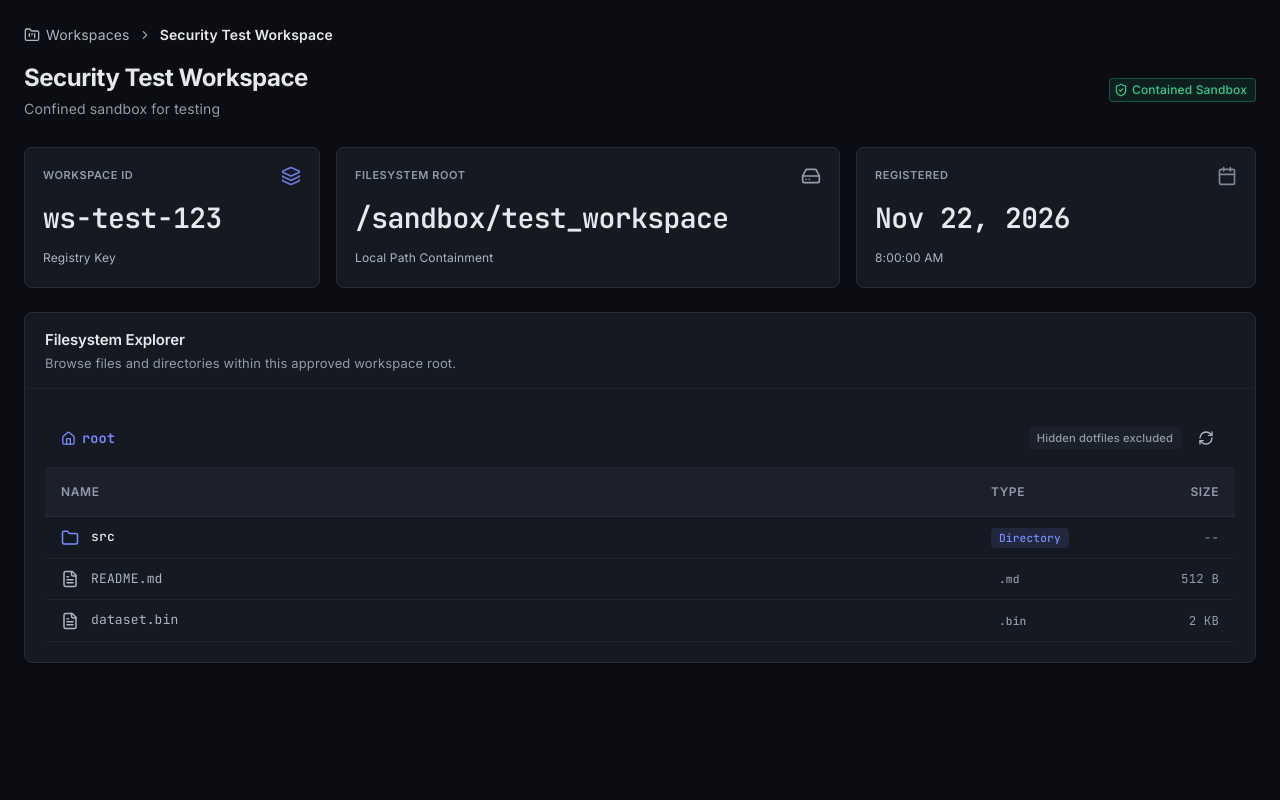
it: WorkspaceDetailPage & FileBrowser Integration (M9.7.1) › displays truncation warning when file content exceeds preview budget
This screenshot has width=1280, height=800.
Click the text "README.md": {"x": 127, "y": 579} 91,570 -> 163,588
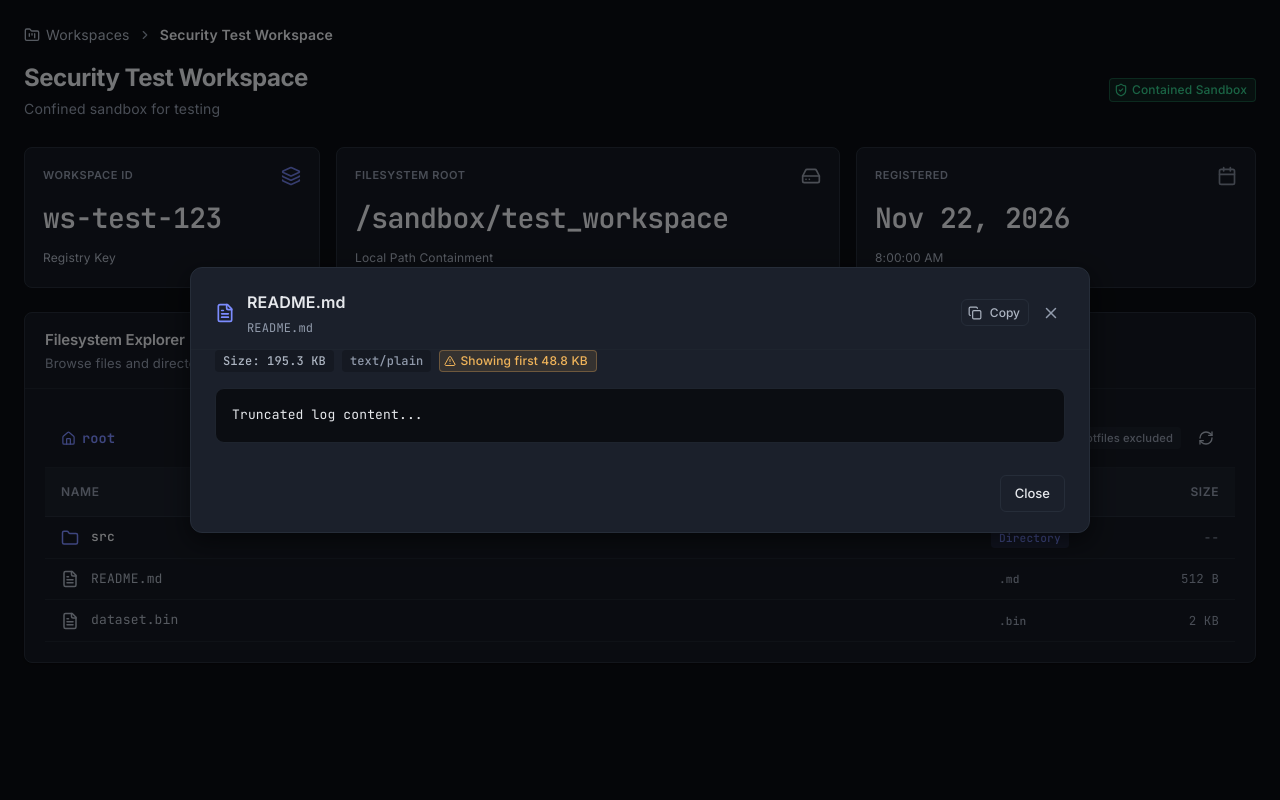
Expected: the text "Showing first 48.8 KB" is shown, 452,352 -> 596,370
